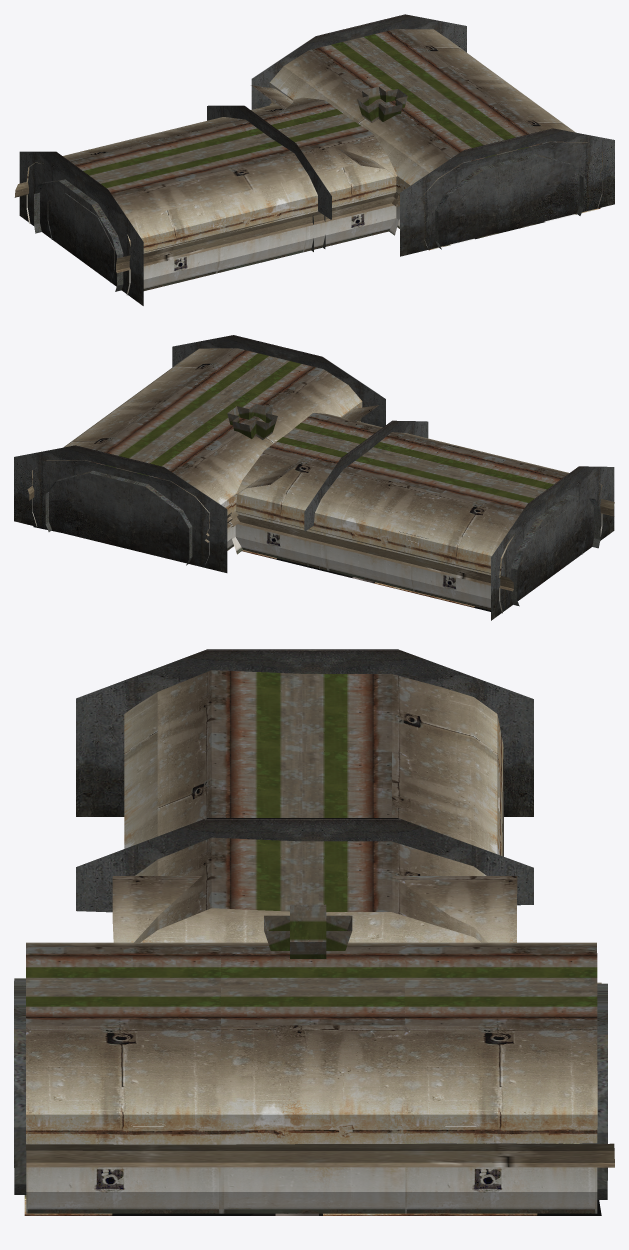
File: mp_bunker_01.dae
3 renders of one model, top to bottom at view 1: azimuth 30°, elevation 25°; view 2: azimuth 150°, elevation 25°; view 3: azimuth 270°, elevation 25°, orthographic. The views are drawn at different scales.
Visible parts, largest first — view 1: room_01; view 2: room_01; view 3: room_01.
Boxes of the visible parts, x1=… form: room_01: x1=14, y1=14, x2=614, y2=305; room_01: x1=14, y1=335, x2=614, y2=620; room_01: x1=14, y1=649, x2=614, y2=1215.
Bounding box in the file's own units: 9131 × 5393 × 1672.
